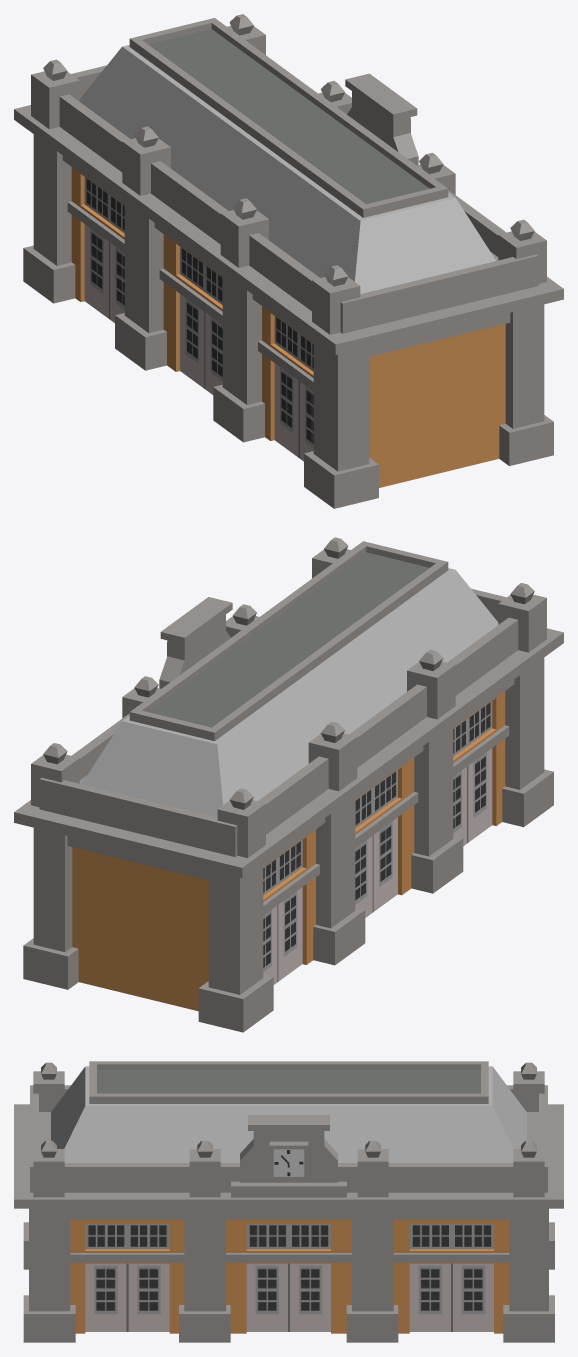
File: west_huoche07.FBX
The picture shows the model from 3 angles, top to bottom: view 1: azimuth 30°, elevation 25°; view 2: azimuth 150°, elevation 25°; view 3: azimuth 270°, elevation 25°; orthographic projection. The views are drawn at different scales.
Parts seen in each view (by area): view 1: west_huoche07; view 2: west_huoche07; view 3: west_huoche07.
Part boxes in pixels (left/top/right/bottom): west_huoche07: left=14, top=14, right=563, bottom=508; west_huoche07: left=14, top=537, right=563, bottom=1032; west_huoche07: left=14, top=1061, right=563, bottom=1342.
Size of the model in its own units: 3575 by 3816 by 8729.
